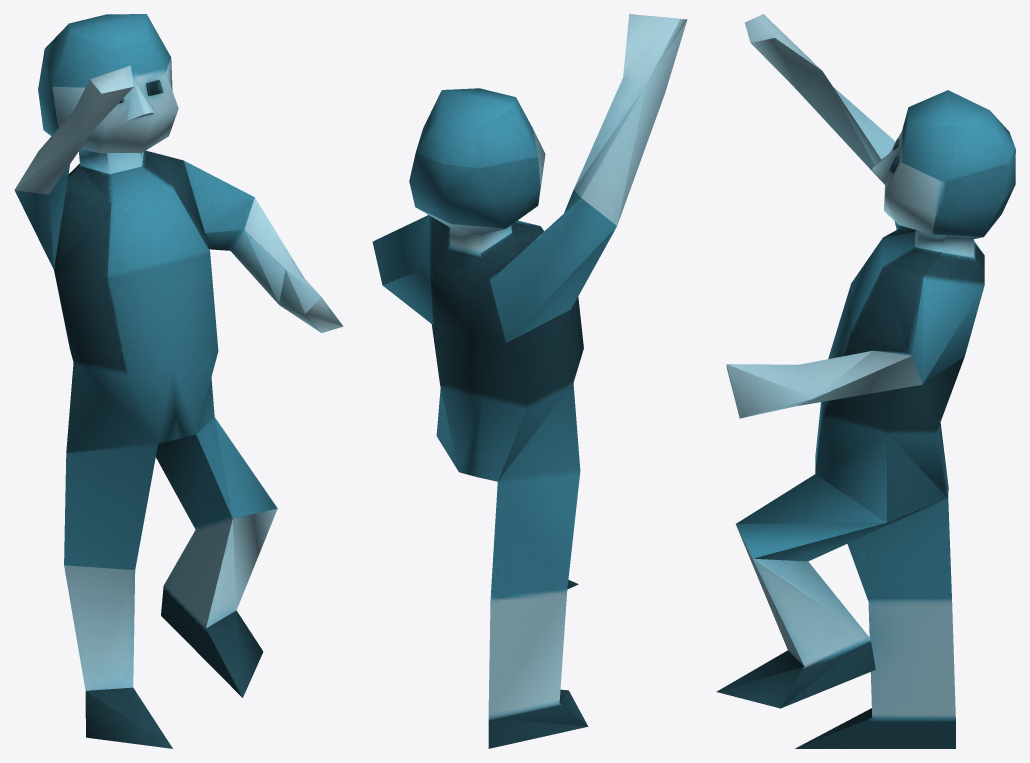
File: elf.obj
3 views of the same model, side by side, from view 1: azimuth 30°, elevation 25°; view 2: azimuth 150°, elevation 25°; view 3: azimuth 270°, elevation 25° (orthographic). The views are drawn at different scales.
Visible parts, largest first — view 1: Character_Elf_2_AO; view 2: Character_Elf_2_AO; view 3: Character_Elf_2_AO.
Boxes of the visible parts, bbox=[...] form: Character_Elf_2_AO: bbox=[14, 14, 343, 748]; Character_Elf_2_AO: bbox=[372, 14, 687, 748]; Character_Elf_2_AO: bbox=[716, 14, 1015, 748].
Size of the model in its own units: 0.6517 by 1.78 by 0.7029.
Materials: 1 (1 with a texture image).
